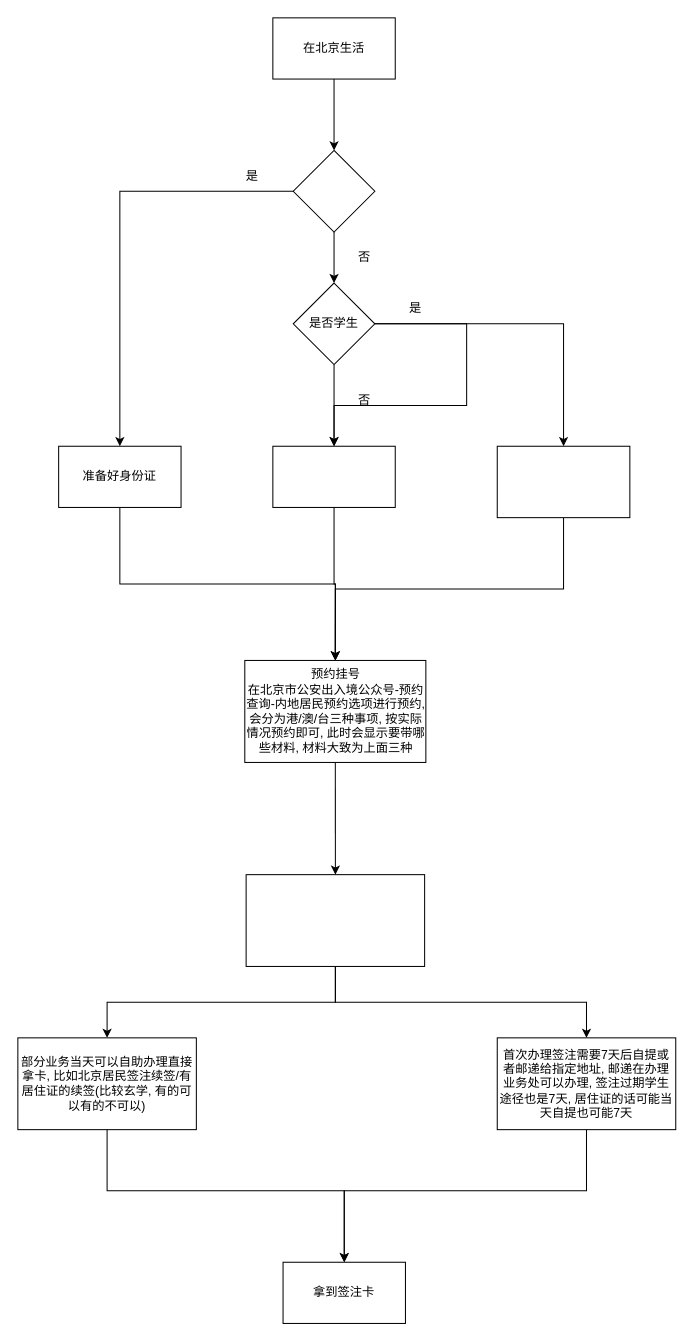
Some shapes in this 694 by 1341 pixel diagram are drawn without their labels. The centre of each missing label's shape, as x and y in pixels:
"准备好出入境 在学证明 (学院和负责人盖章, 注意不是在读证明)和学信网学籍证明(学院盖章)" belongs at point (563, 481).
"准备好居住证/卡" belongs at point (333, 476).
"实地办理 按照预约的地点(派出所/出入境管理局)拿好材料办理业务" belongs at point (335, 920).
"是否是北京人" belongs at point (333, 190).
